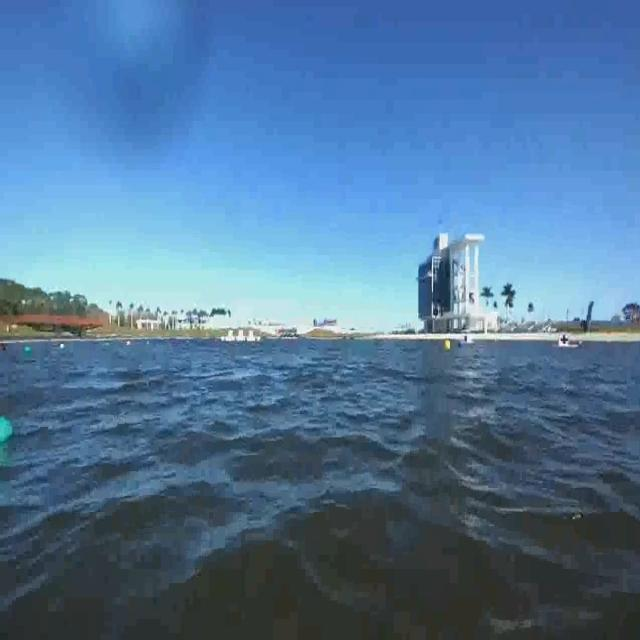green-buoy: (0, 416, 14, 446)
yellow-buoy: (445, 338, 453, 353)
